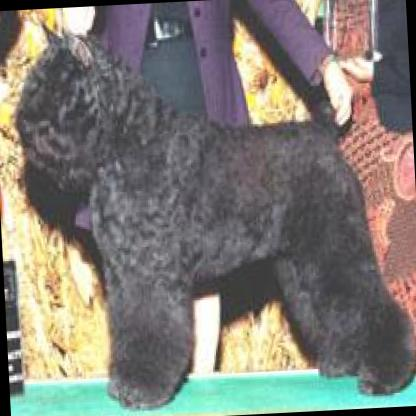Bouvier_des_Flandres: (8, 1, 416, 413)
